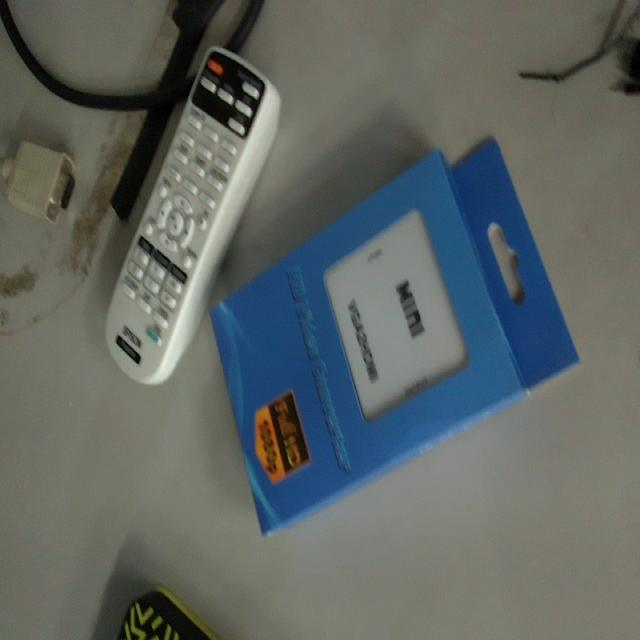remote: (214, 137, 579, 540), (102, 42, 285, 393)
